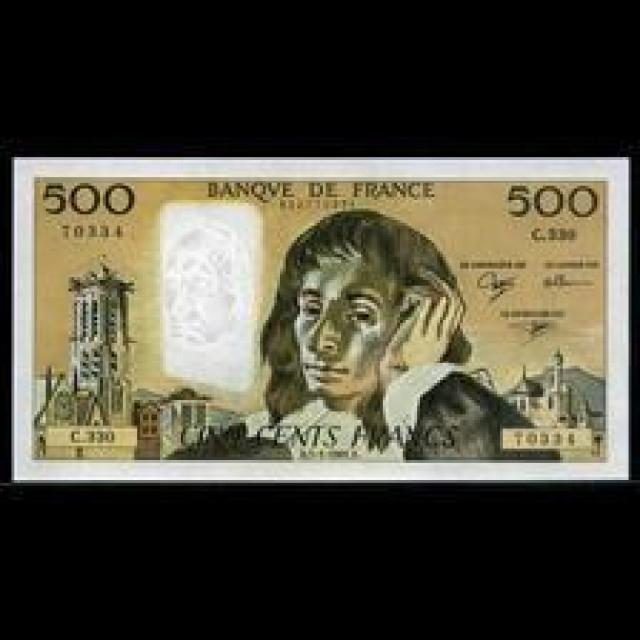banknote: (13, 157, 624, 480), (179, 420, 346, 453), (504, 178, 602, 226), (36, 177, 140, 220)
